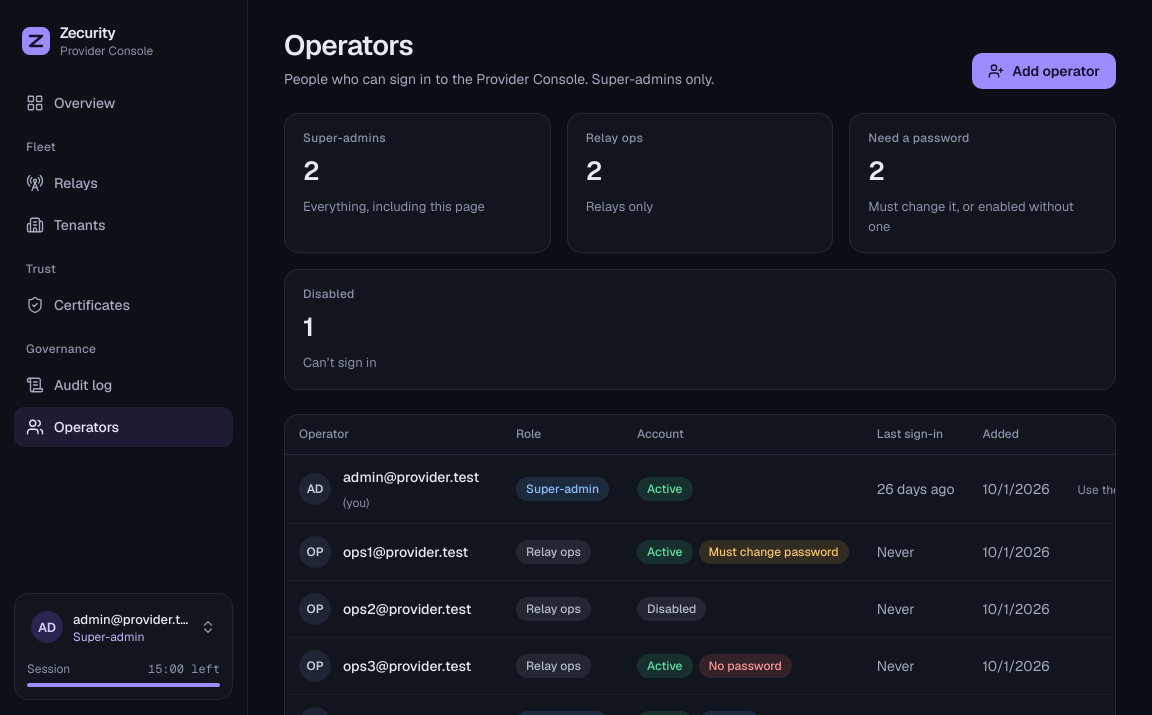
Test case: Provider users: add operator › creates, shows the temporary password once, reloads, and discards it on close
Click the button "Add operator": (1044,71) [972,53,1116,89]
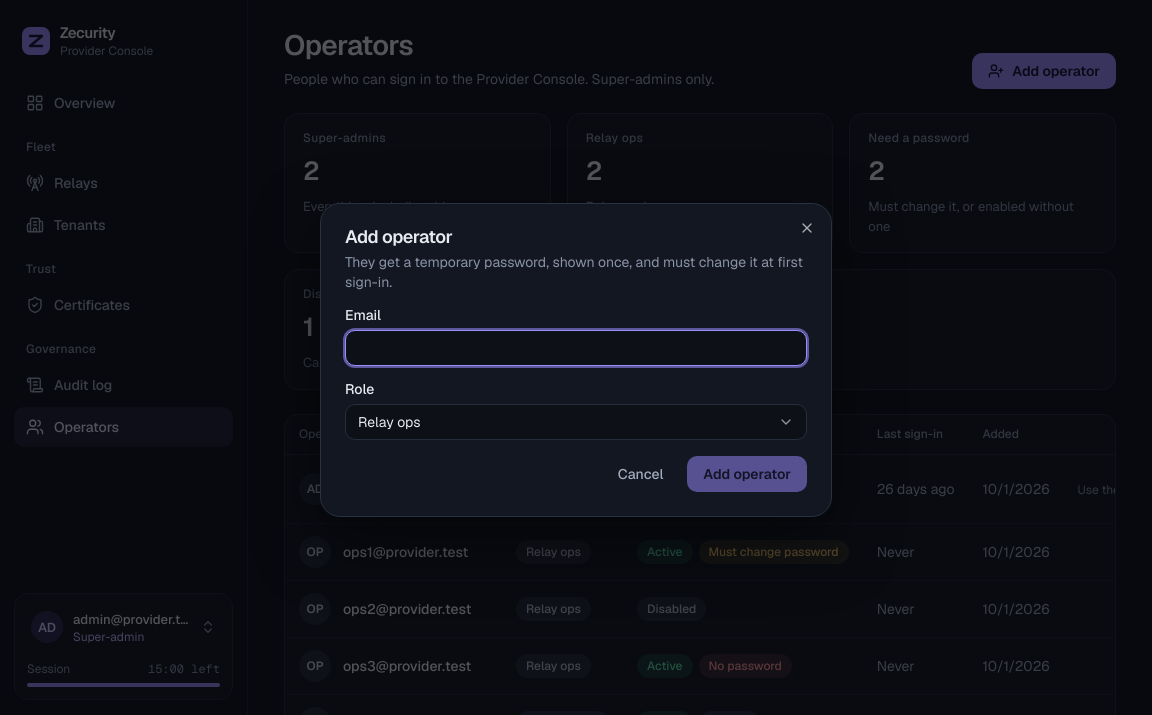
Check: the dropdown named "Role" reads "Relay ops", box [345,404,807,440]
In the field labelled "Email": (576,348) [345,330,807,366], type "new@provider.test"
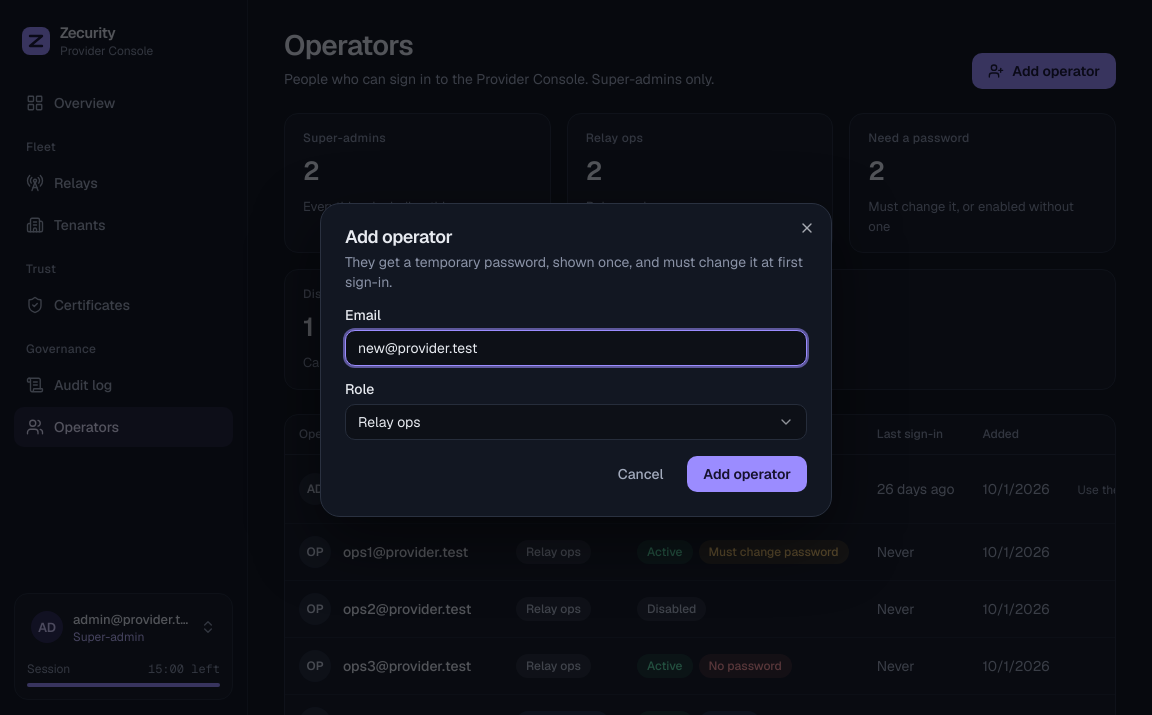
Click the button "Add operator": (747,474) [687,456,807,492]
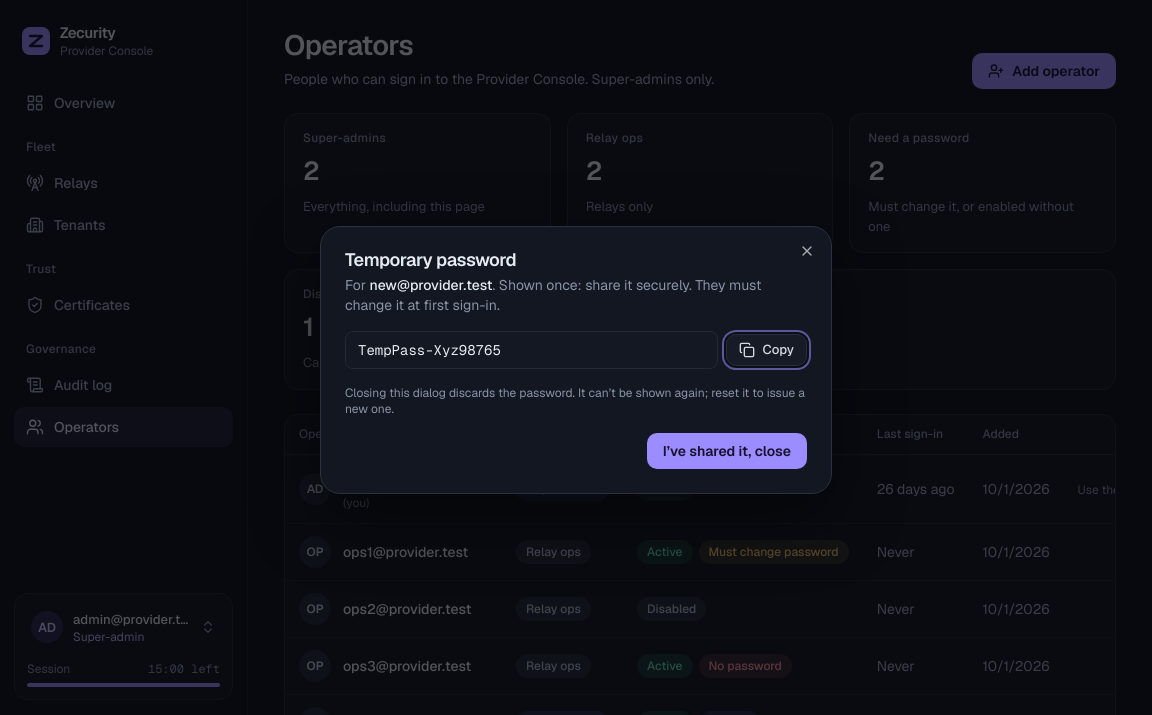
Check: the text named "Temporary password" reads "TempPass-Xyz98765", box [358,341,501,359]
Check: the text "new@provider.test" is shown, box [370,276,492,294]
Click the button "I’ve shared it, close": (727,451) [647,433,807,469]
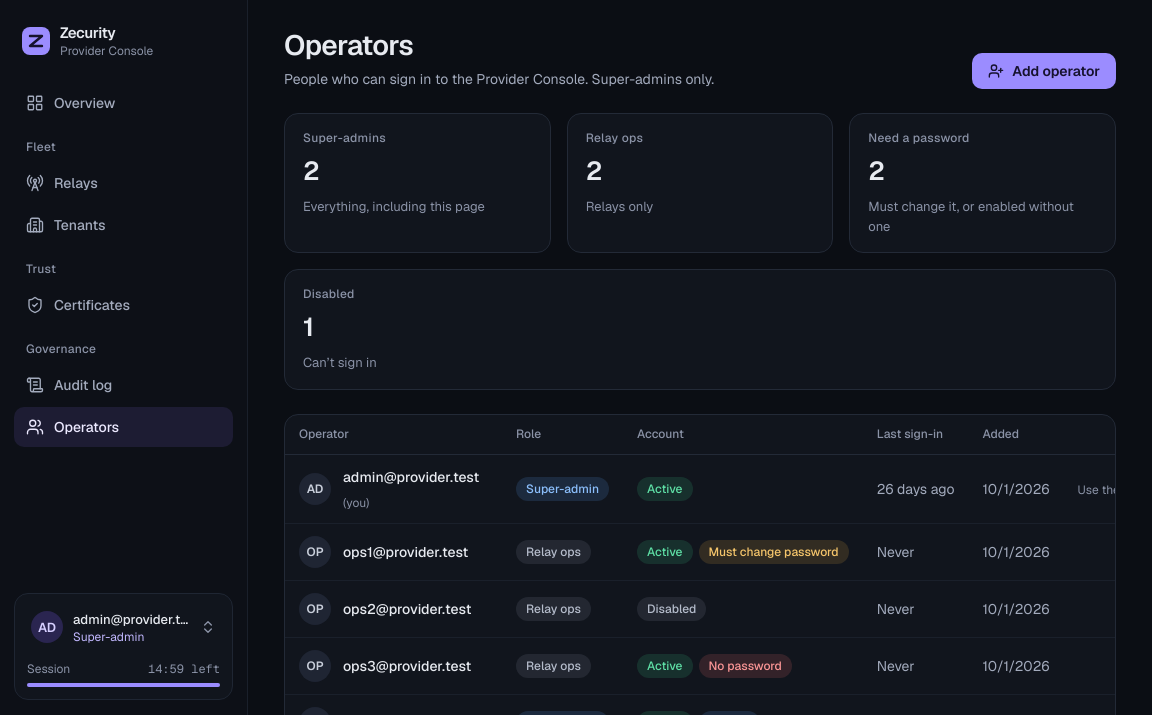
Check: the dialog is gone
Check: the text "TempPass-Xyz98765" is gone
